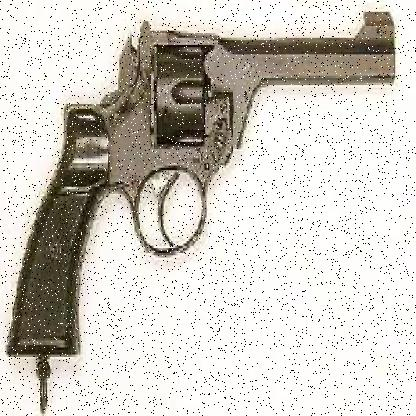pistol: (4, 9, 396, 354)
